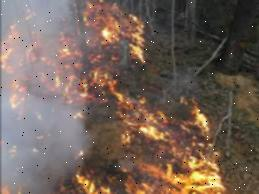fire: (0, 93, 227, 194), (0, 0, 149, 92)
